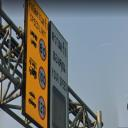speed_limit_100: (37, 64, 48, 92)
speed_limit_120: (36, 92, 47, 122)
speed_limit_80: (38, 37, 48, 63)
